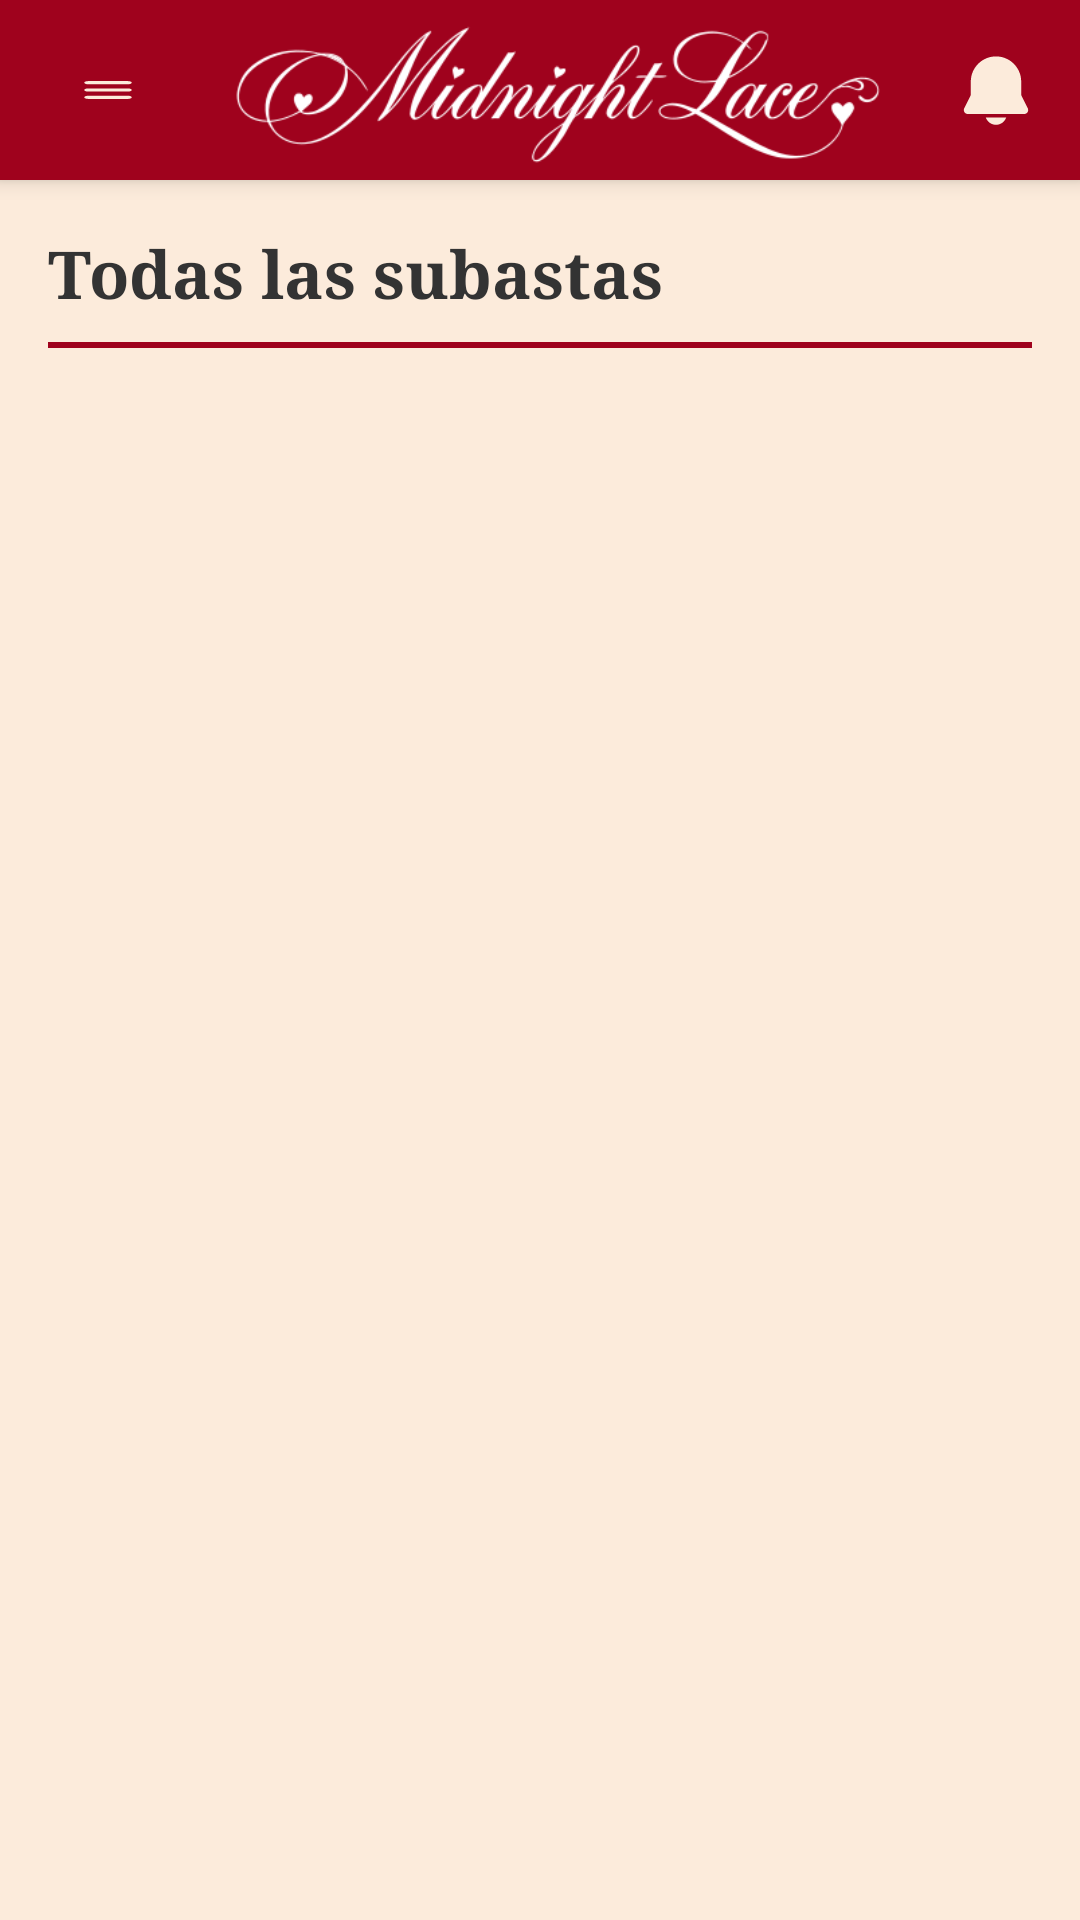

Icons on this 1080*1920 Android screen, each with its box as rect(x1, y1, x2, y2):
bell: rect(963, 56, 1029, 125)
menu: rect(84, 81, 132, 99)
